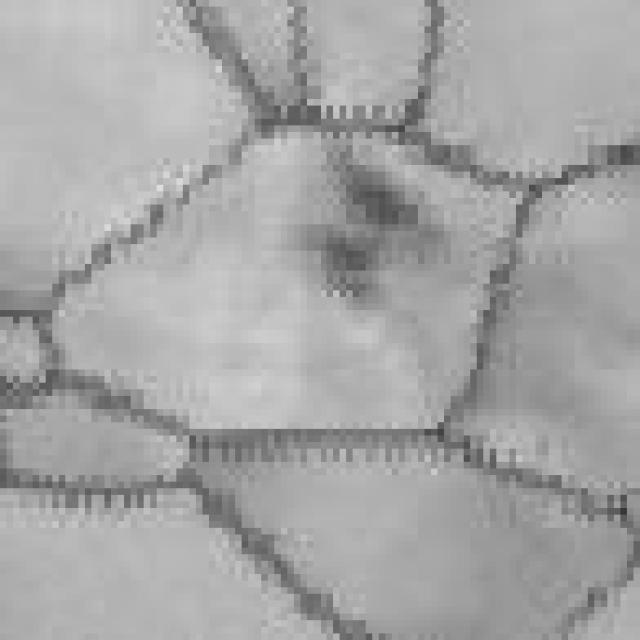good_void: (310, 149, 433, 308)
